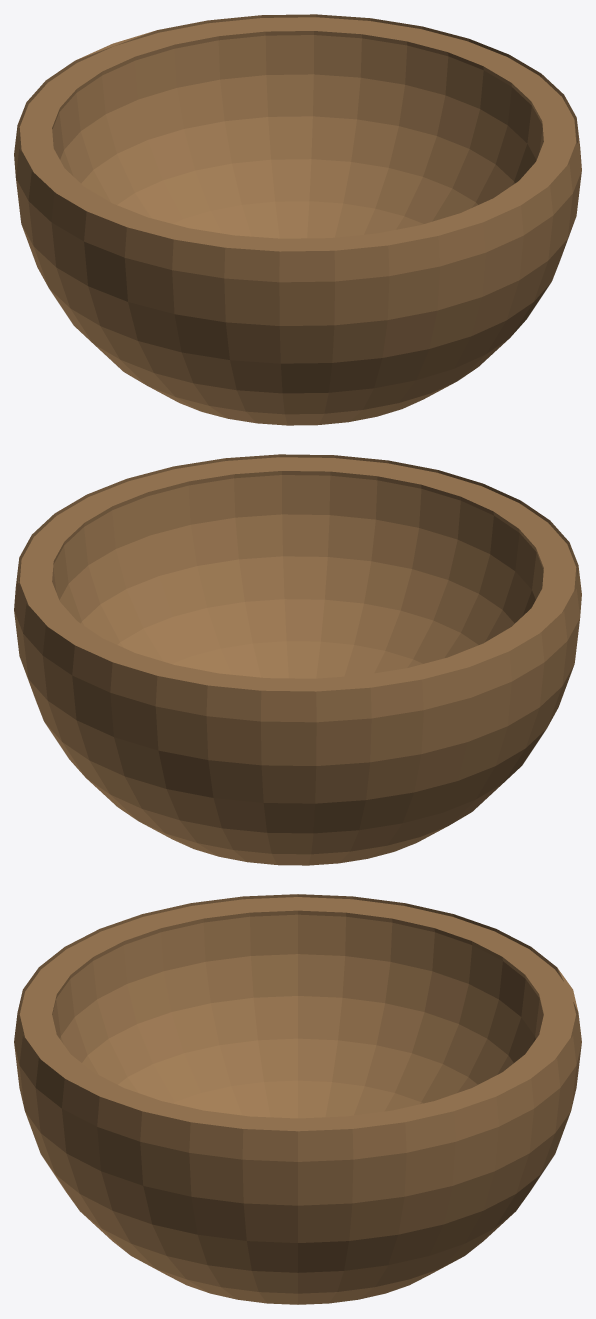
Rendered from bowl_end.glb.
The picture shows the model from 3 angles, top to bottom: view 1: azimuth 30°, elevation 25°; view 2: azimuth 150°, elevation 25°; view 3: azimuth 270°, elevation 25°; orthographic projection.
Parts seen in each view (by area): view 1: Sphere, Sphere.001; view 2: Sphere, Sphere.001; view 3: Sphere, Sphere.001.
Boxes of the visible parts, bbox=[...] form: Sphere: bbox=[18, 17, 577, 251]; Sphere.001: bbox=[14, 14, 581, 425]; Sphere: bbox=[18, 457, 577, 691]; Sphere.001: bbox=[14, 454, 581, 865]; Sphere: bbox=[19, 897, 576, 1131]; Sphere.001: bbox=[14, 894, 581, 1304].
Bounding box in the file's own units: 2.42 × 1.07 × 2.42.
